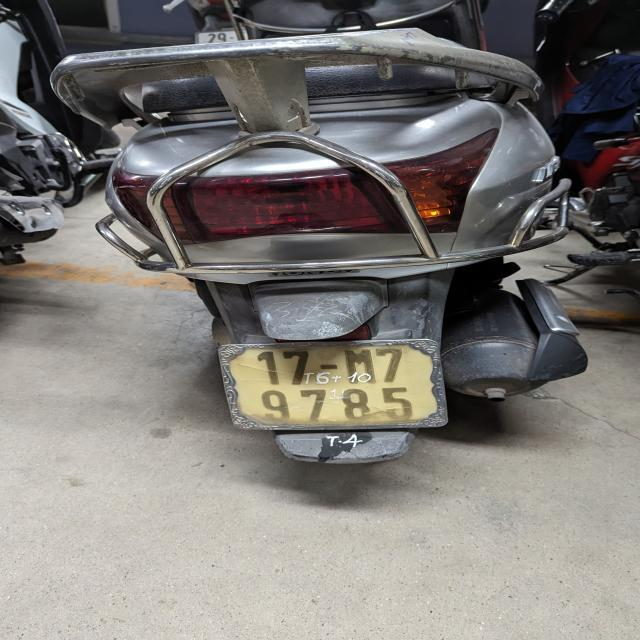license: (216, 337, 447, 432)
